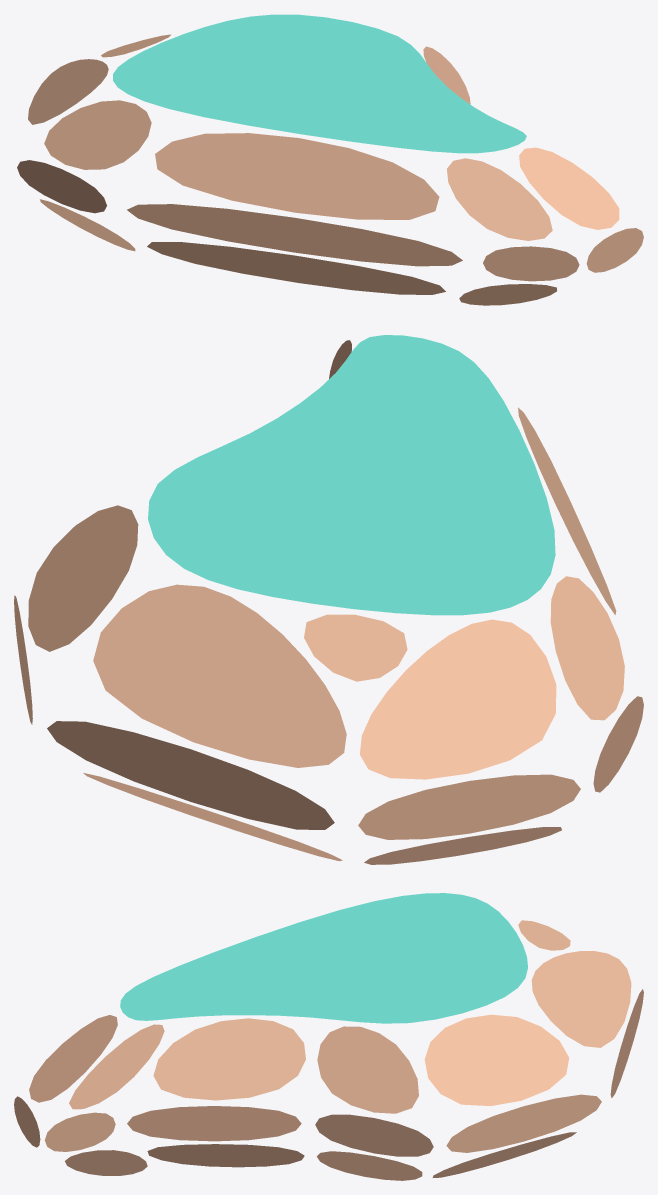
File: background-rock-largea.glb
3 renders of one model, top to bottom at view 1: azimuth 30°, elevation 25°; view 2: azimuth 150°, elevation 25°; view 3: azimuth 270°, elevation 25°, orthographic. The views are drawn at different scales.
Parts seen in each view (by area): view 1: rock_largeA; view 2: rock_largeA; view 3: rock_largeA.
Part boxes in pixels (box(x1,y1,x2,y2)): rock_largeA: box(17, 14, 643, 305); rock_largeA: box(14, 335, 643, 864); rock_largeA: box(14, 893, 643, 1180).
Bounding box in the file's own units: 0.7786 × 0.2598 × 1.01.
